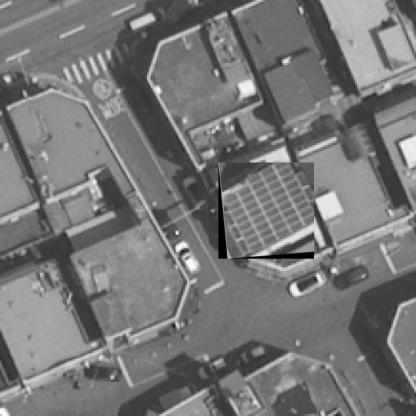solar-pv-panel: (222, 162, 314, 258)
